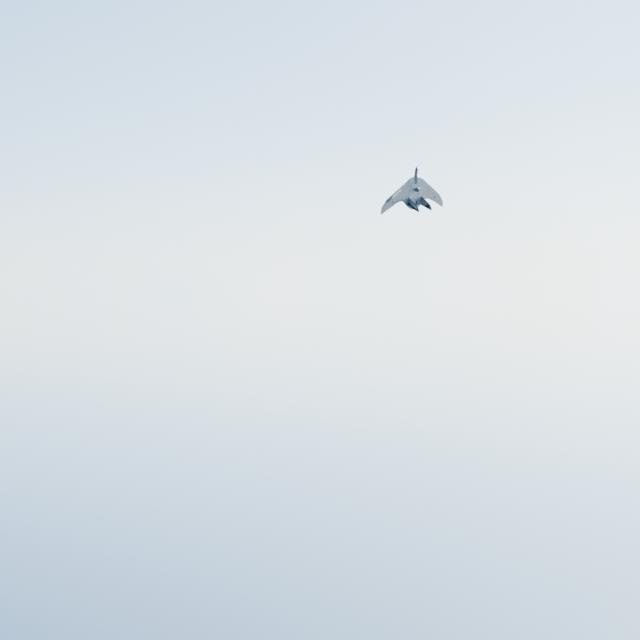Airaplan: (381, 164, 443, 215)
